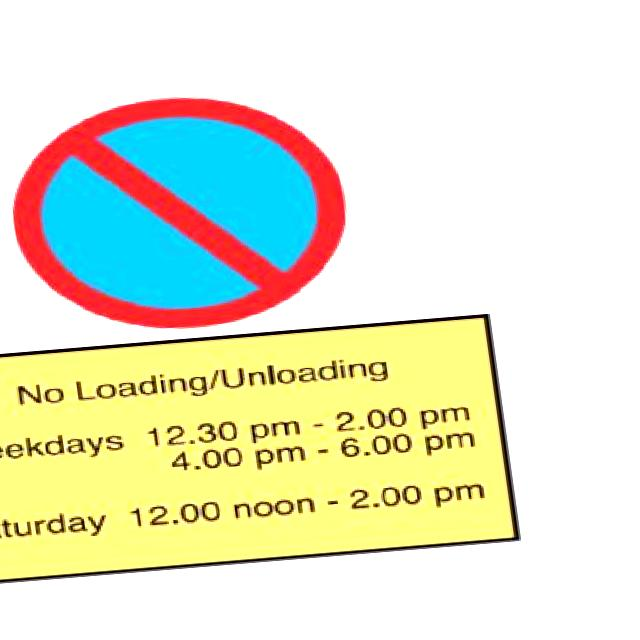forb_stopping: (17, 97, 347, 327)
